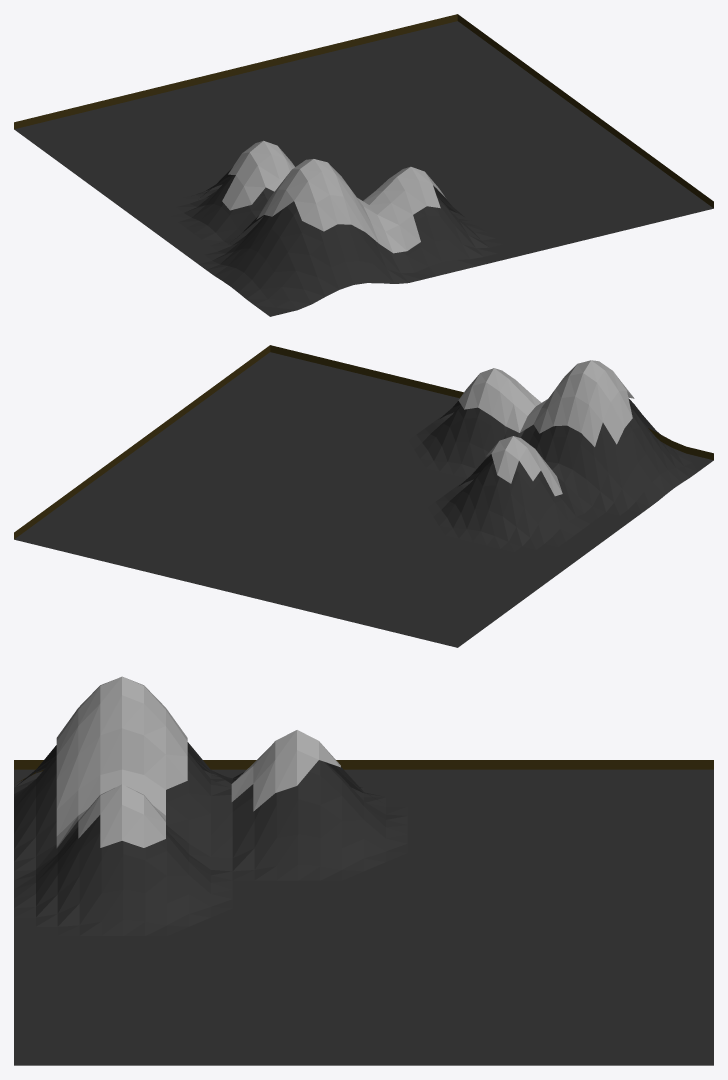
Rendered from LPTerrain.obj.
The picture shows the model from 3 angles, top to bottom: view 1: azimuth 30°, elevation 25°; view 2: azimuth 150°, elevation 25°; view 3: azimuth 270°, elevation 25°; orthographic projection. The views are drawn at different scales.
Parts seen in each view (by area): view 1: Terrain_Plane; view 2: Terrain_Plane; view 3: Terrain_Plane.
Part boxes in pixels (bbox=[...]): Terrain_Plane: bbox=[14, 14, 713, 316]; Terrain_Plane: bbox=[14, 345, 713, 647]; Terrain_Plane: bbox=[14, 676, 713, 1065].
Bounding box in the file's own units: 14.15 × 3.32 × 14.15.
